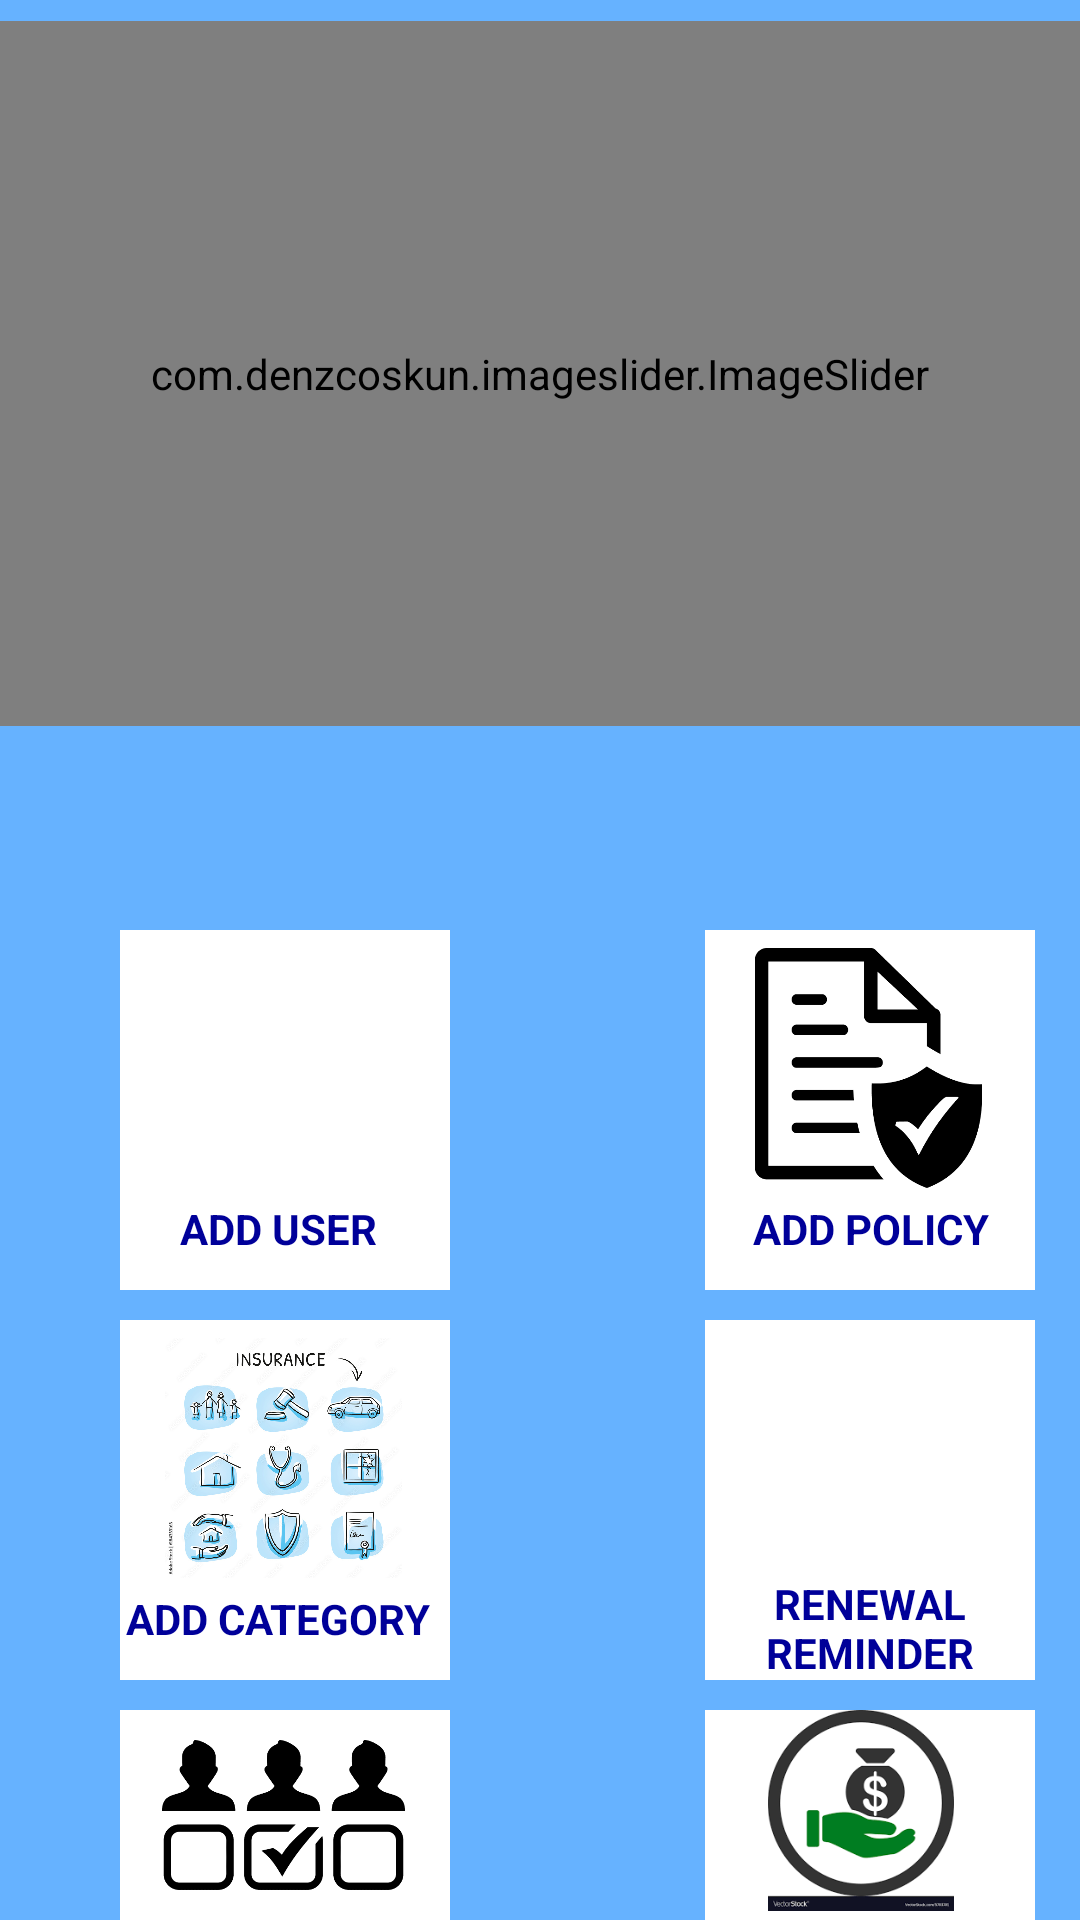

Icon click points for this 1080 × 1920 phone screenshot, format [x,y]:
assign user: [283,1815]
